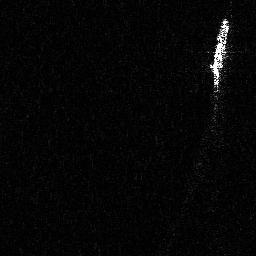ship: (206, 16, 231, 106)
